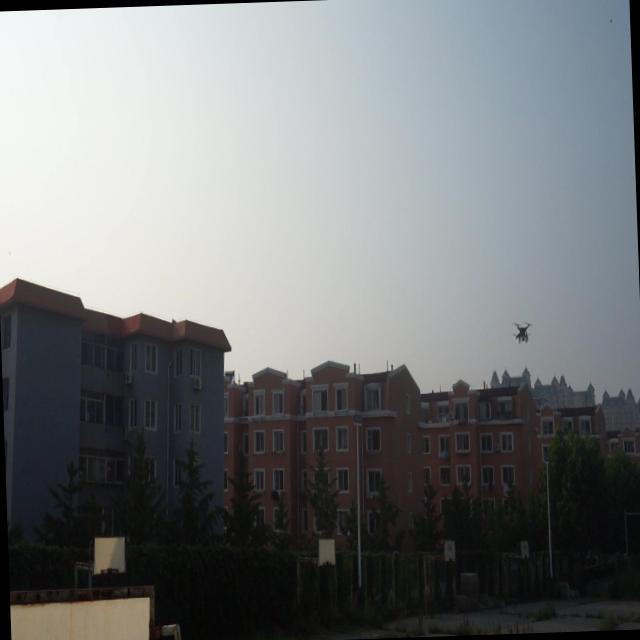drone: (508, 318, 532, 350)
